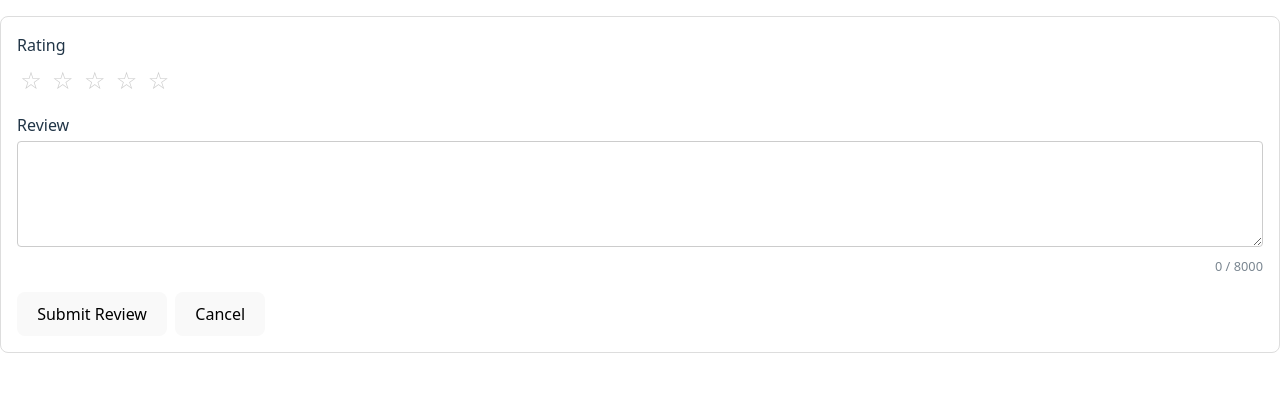
Test case: ReviewForm › shows validation error when no rating is selected
The image size is (1280, 399).
Type "Some text" into the text box labelled "Review".
click(640, 194); type("Some text")  # box left=17, top=141, right=1263, bottom=247
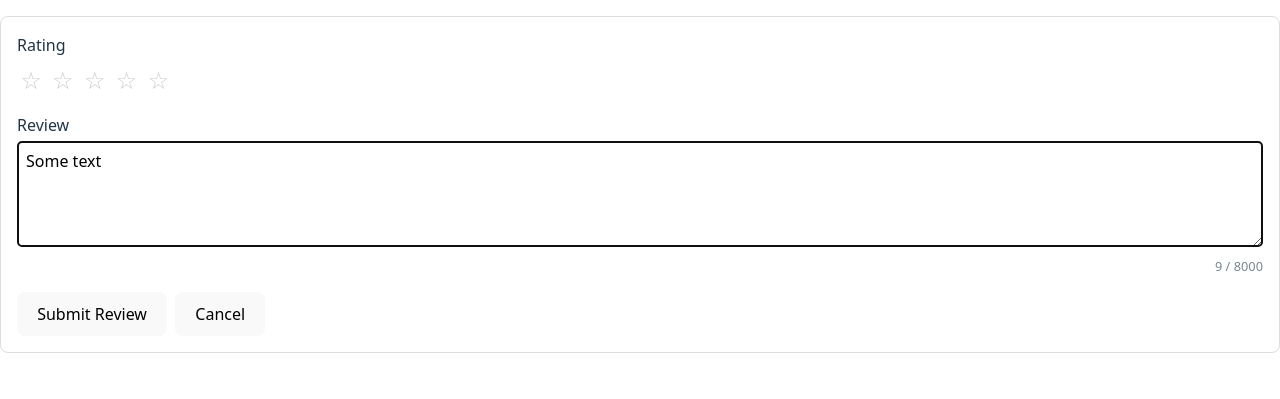
Click the button "Submit Review".
click(92, 314)  # box left=17, top=292, right=167, bottom=336
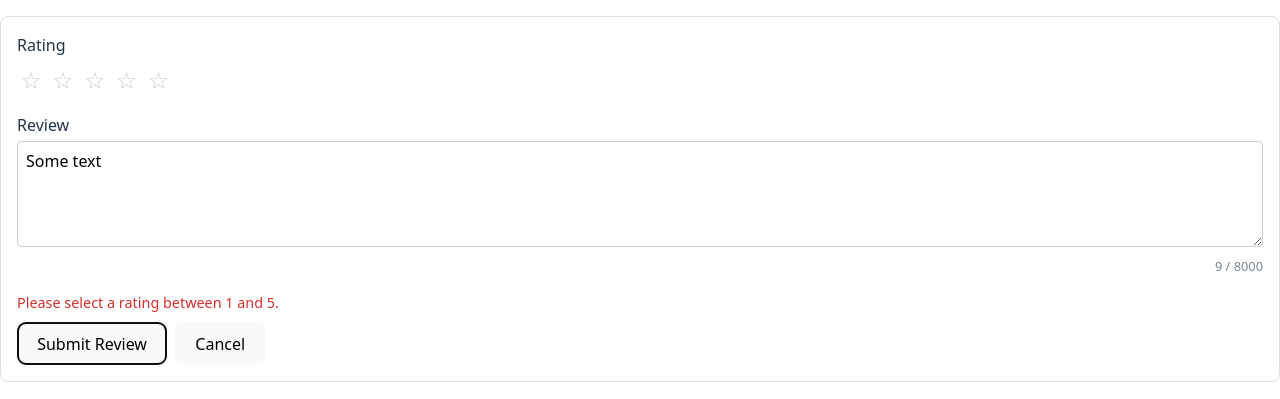
Now the message shows "Please select a rating", box left=17, top=293, right=279, bottom=312
